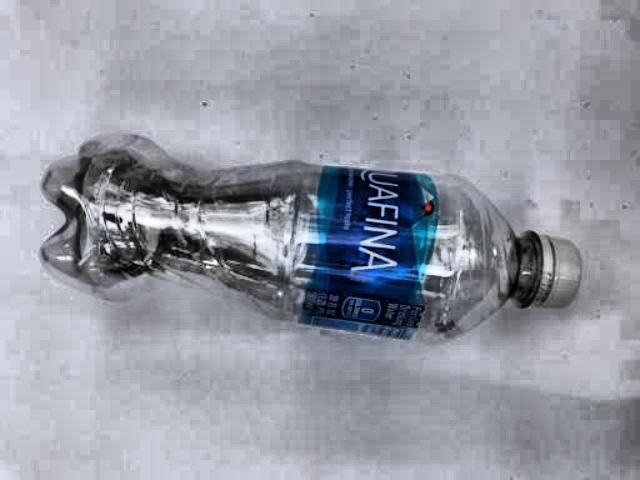Bottles: (19, 116, 594, 369)
